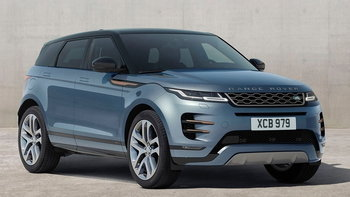pickup: (17, 27, 326, 188)
